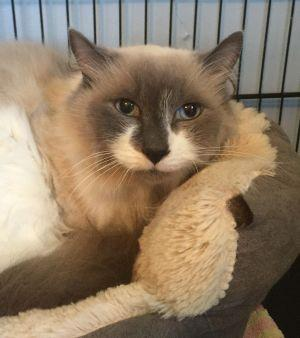ragdoll: (66, 15, 247, 192)
